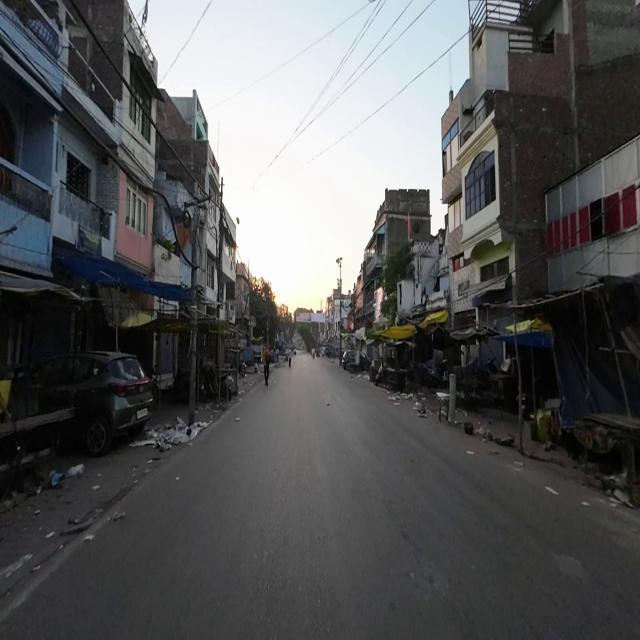Garbage: (140, 420, 201, 449)
